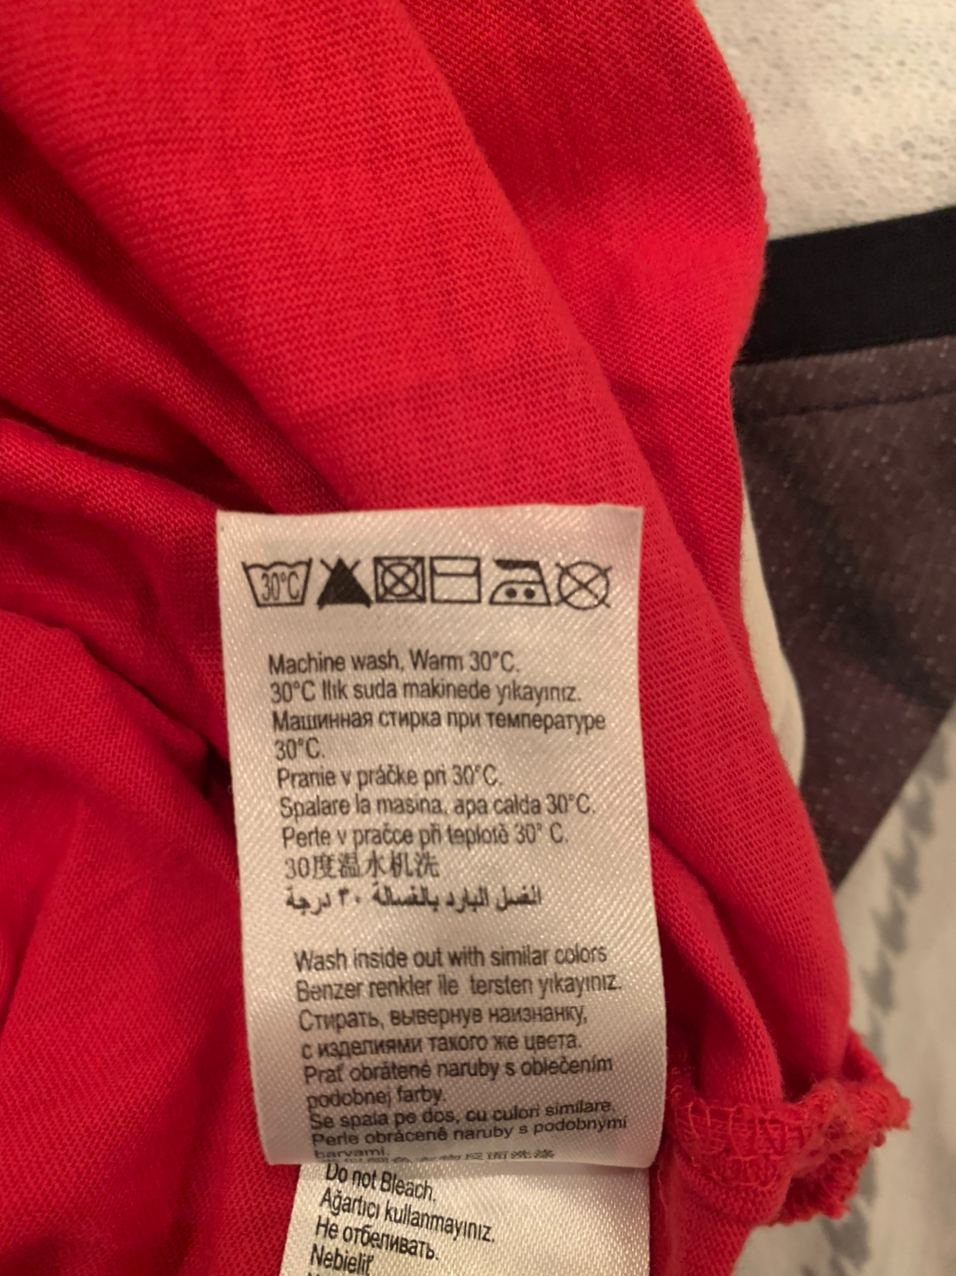do_not_bleach: (312, 552, 374, 614)
do_not_dry_clean: (552, 555, 618, 614)
do_not_tumble_drying: (373, 549, 429, 611)
ironing_at_med_temp: (484, 554, 555, 609)
line_dry: (428, 550, 486, 607)
wash_at_or_below_30: (239, 552, 314, 615)
